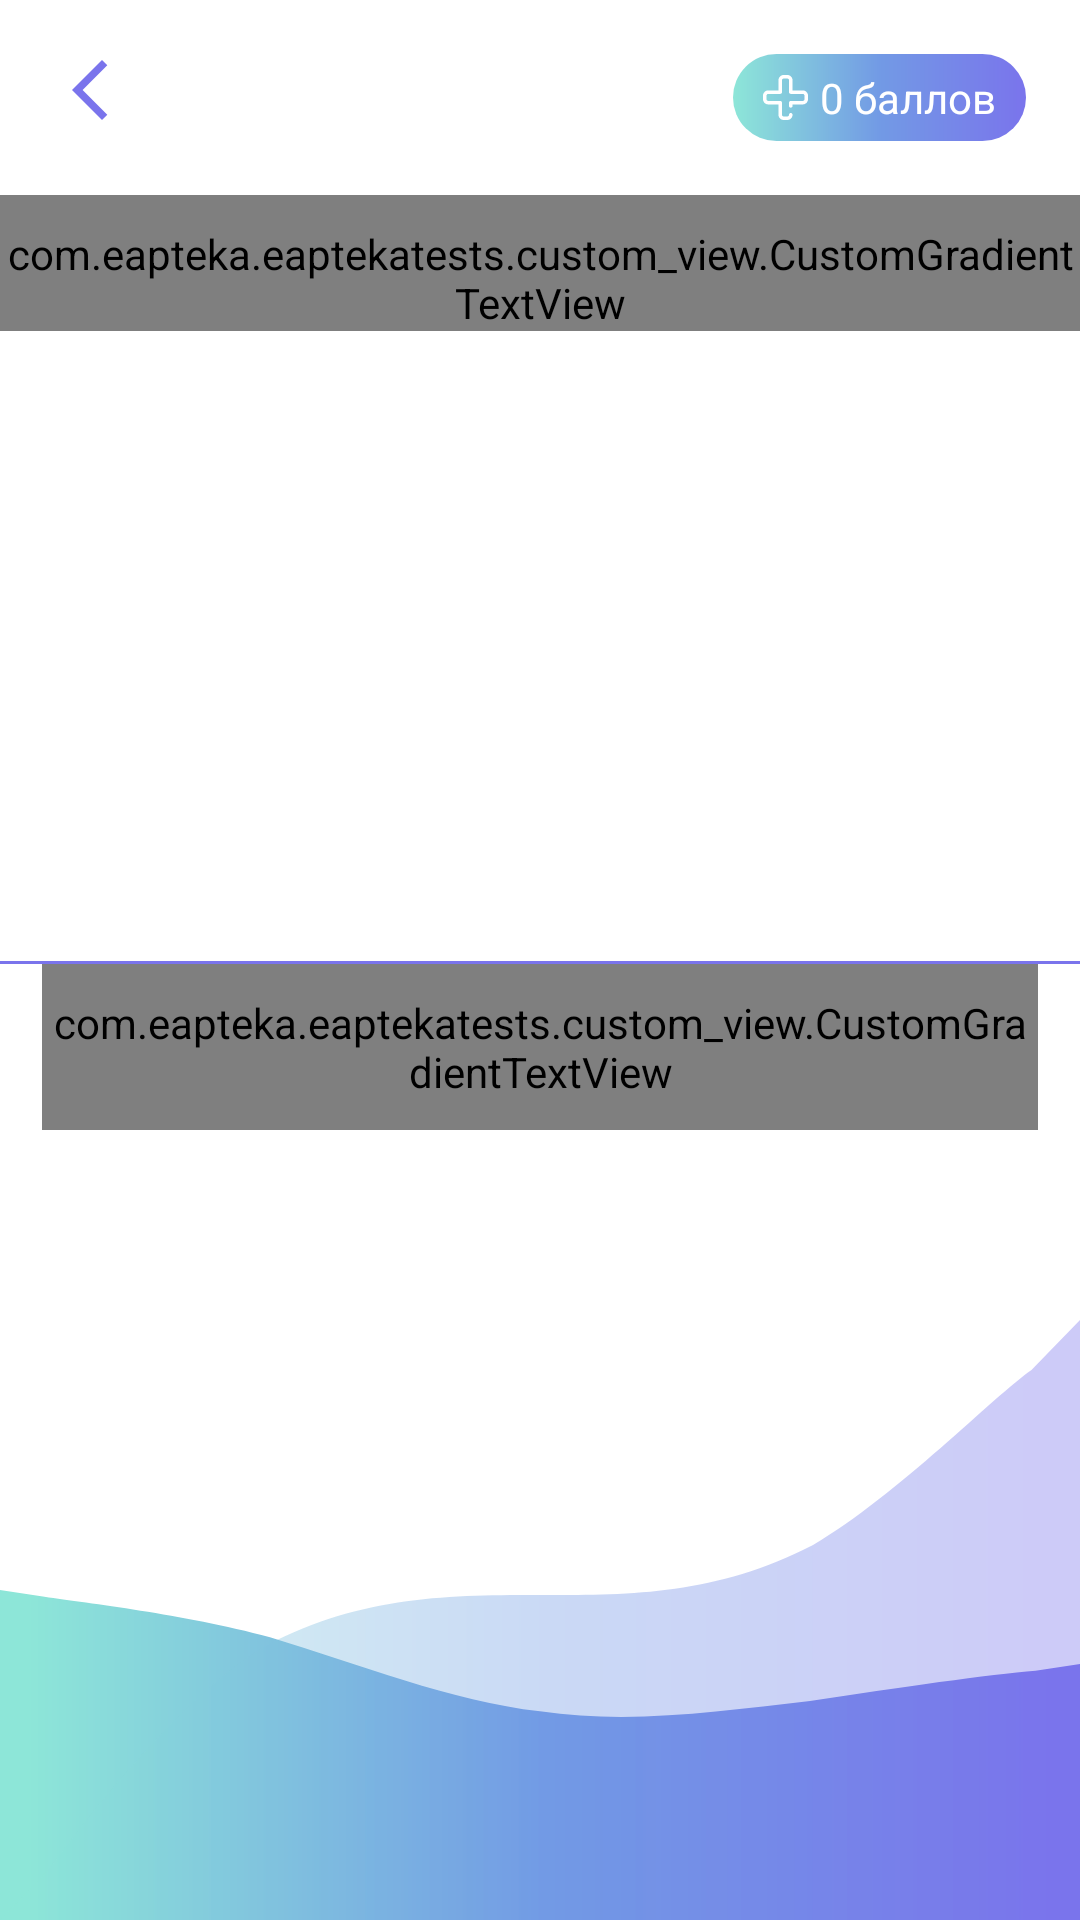

Icon bounding boxes for this 1080x1920 phone screenshot, format [left=x1, top=y1, right=x2, bottom=y2]:
arrow back: [left=72, top=60, right=107, bottom=120]
